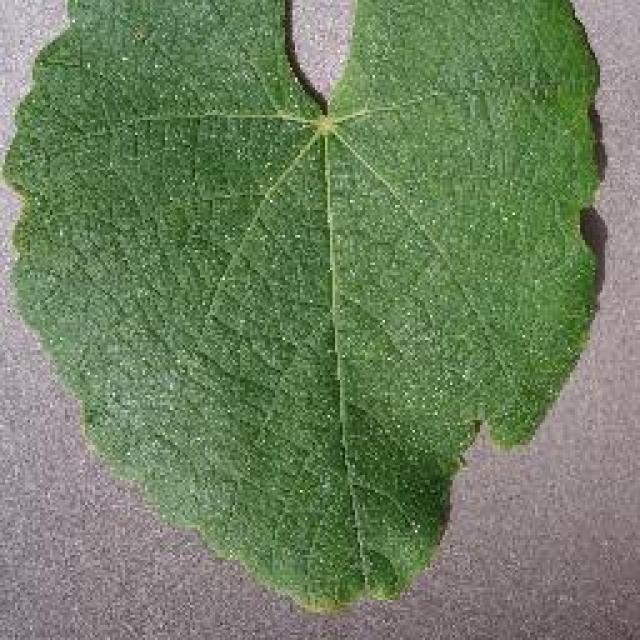Grape___healthy: (5, 0, 598, 605)
